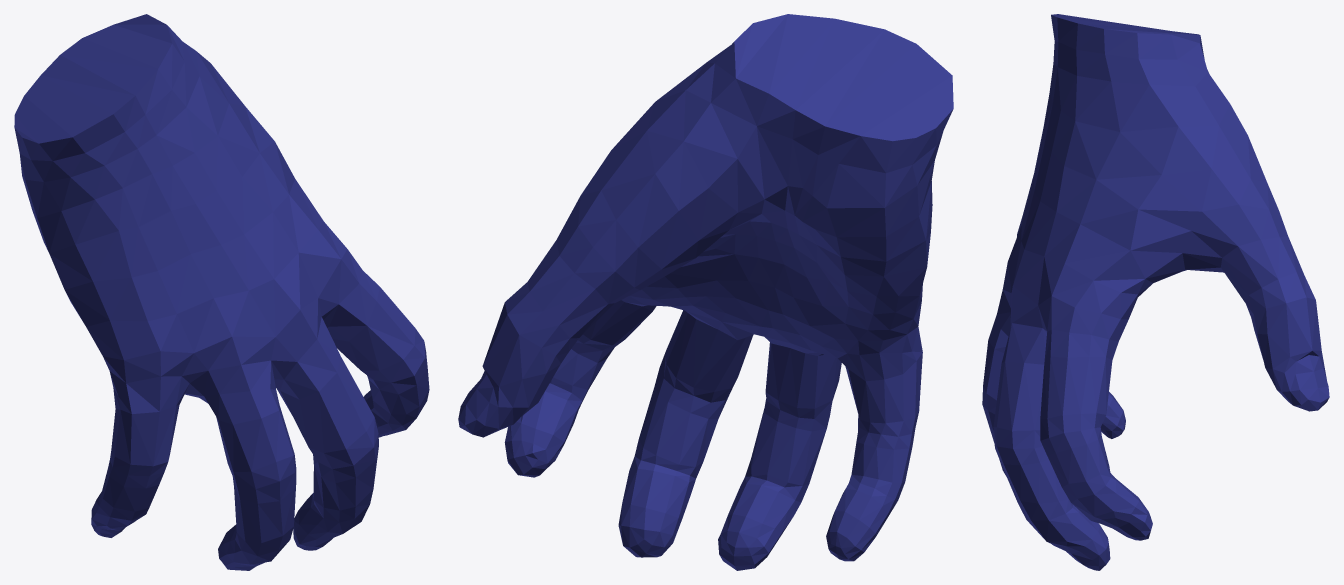
3 renders of one model, left to right at view 1: azimuth 30°, elevation 25°; view 2: azimuth 150°, elevation 25°; view 3: azimuth 270°, elevation 25°, orthographic. The views are drawn at different scales.
Size of the model in its own units: 0.1289 by 0.1695 by 0.1108.
